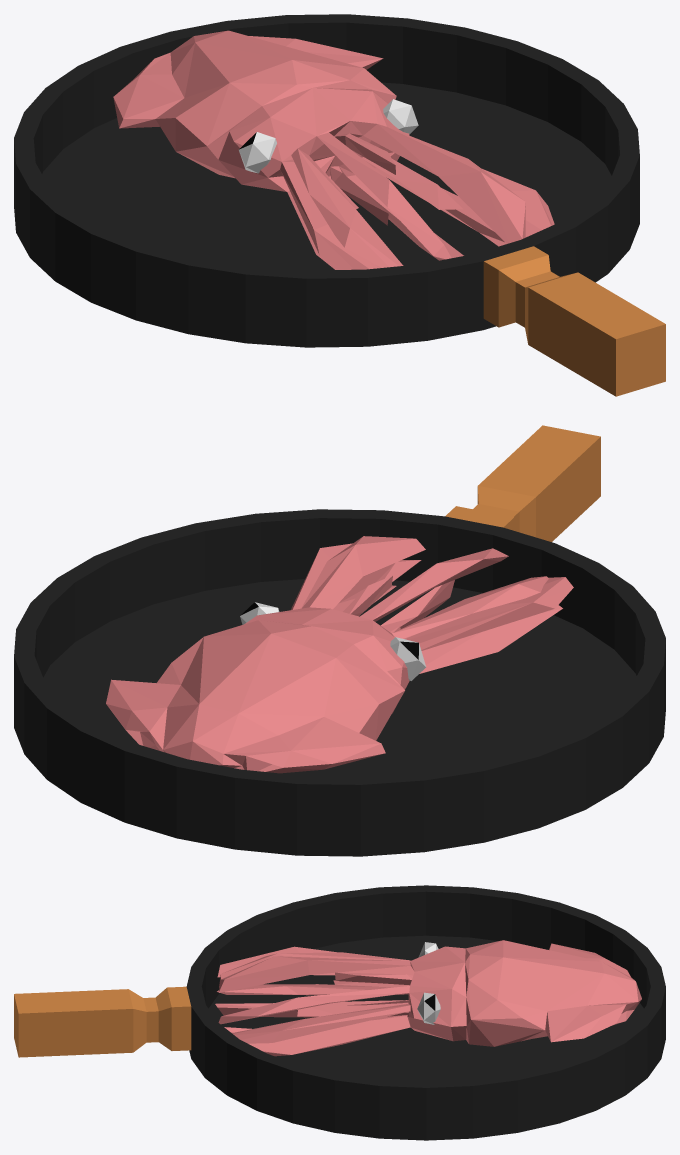
The model's file is LowPoly_SquidInAPan.fbx.
3 views of the same model, one above another, from view 1: azimuth 30°, elevation 25°; view 2: azimuth 150°, elevation 25°; view 3: azimuth 270°, elevation 25° (orthographic). The views are drawn at different scales.
Parts seen in each view (by area): view 1: Squid_In_A_Pan; view 2: Squid_In_A_Pan; view 3: Squid_In_A_Pan.
Boxes of the visible parts, <box> form: Squid_In_A_Pan: <box>14,14,665,396</box>; Squid_In_A_Pan: <box>14,425,665,856</box>; Squid_In_A_Pan: <box>14,885,665,1140</box>.
Bounding box in the file's own units: 523 × 106 × 711.
